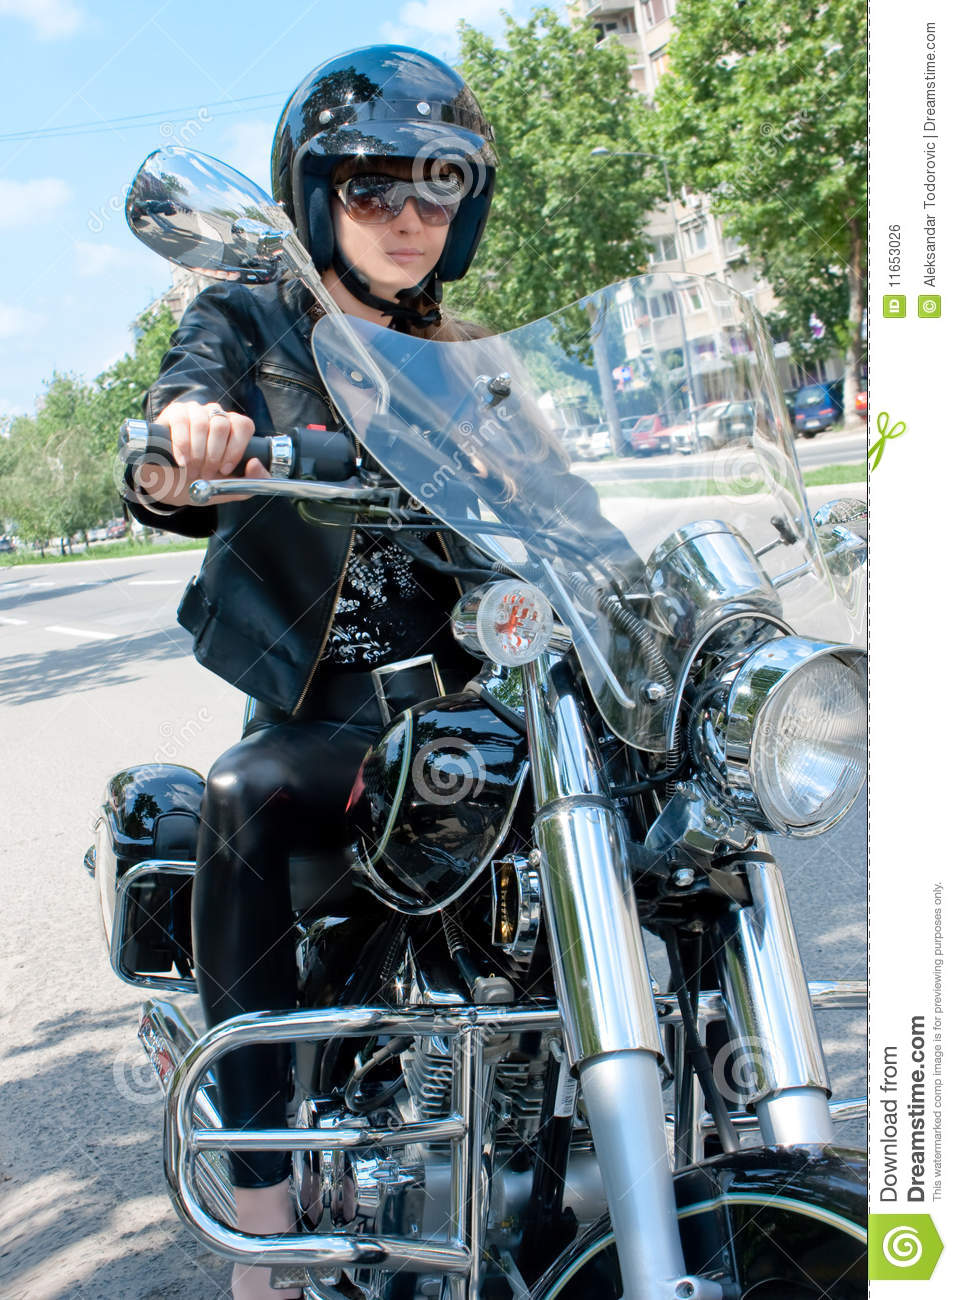helmet: (268, 39, 508, 239)
